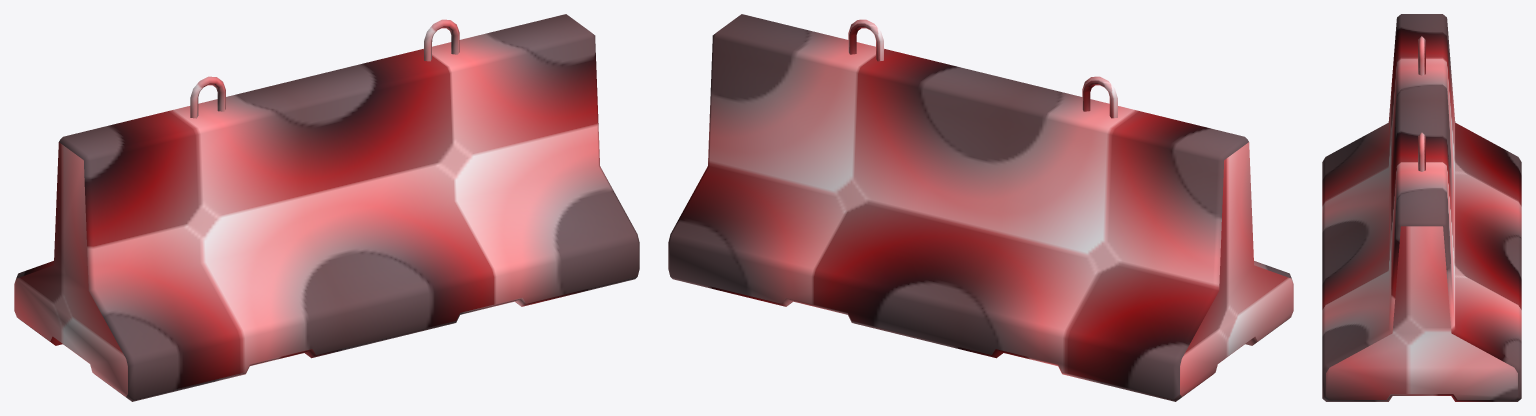
File: barrier2.fbx
The picture shows the model from 3 angles, left to right: view 1: azimuth 30°, elevation 25°; view 2: azimuth 150°, elevation 25°; view 3: azimuth 270°, elevation 25°; orthographic projection. The views are drawn at different scales.
Visible parts, largest first — view 1: barrier; view 2: barrier; view 3: barrier.
Boxes of the visible parts, x1=… form: barrier: x1=14, y1=14, x2=639, y2=401; barrier: x1=668, y1=14, x2=1293, y2=401; barrier: x1=1322, y1=14, x2=1521, y2=401.
Size of the model in its own units: 12469 by 5856 by 5000.
Materials: 1 (1 with a texture image).
